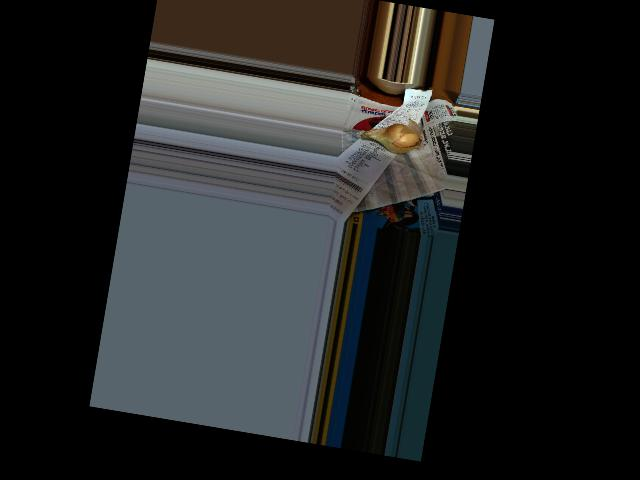onion: (364, 120, 422, 155)
